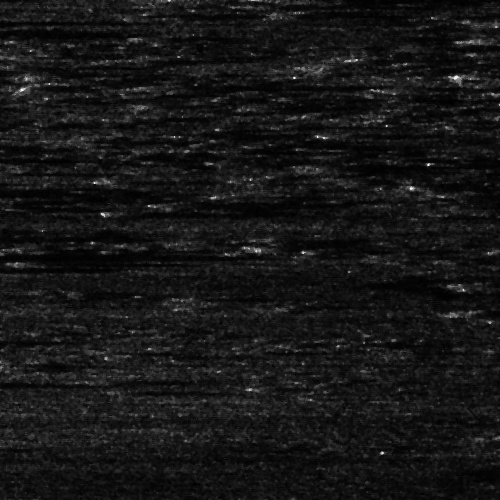object: (284, 158, 367, 169), (333, 82, 426, 91), (62, 132, 145, 141), (116, 53, 189, 62), (78, 207, 161, 214), (447, 15, 500, 24), (153, 196, 206, 205), (435, 306, 488, 315), (451, 36, 500, 43), (17, 258, 70, 263), (148, 81, 179, 88), (262, 0, 325, 1)
shadow: (0, 250, 196, 261), (325, 158, 488, 169), (180, 196, 330, 205), (164, 81, 324, 88), (0, 371, 123, 380), (120, 207, 267, 214), (380, 82, 494, 91), (153, 53, 261, 62), (104, 132, 207, 141), (0, 17, 150, 22), (0, 332, 65, 343), (44, 258, 184, 263), (0, 189, 131, 194), (0, 28, 84, 33), (461, 306, 500, 315), (0, 263, 94, 266), (294, 0, 463, 1)
